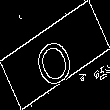O_NW: (30, 23, 80, 87)
